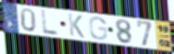0: (19, 8, 38, 33)
7: (135, 19, 154, 48)
8: (113, 19, 133, 45)
G: (88, 16, 109, 41)
K: (67, 12, 86, 39)
L: (40, 9, 61, 37)
